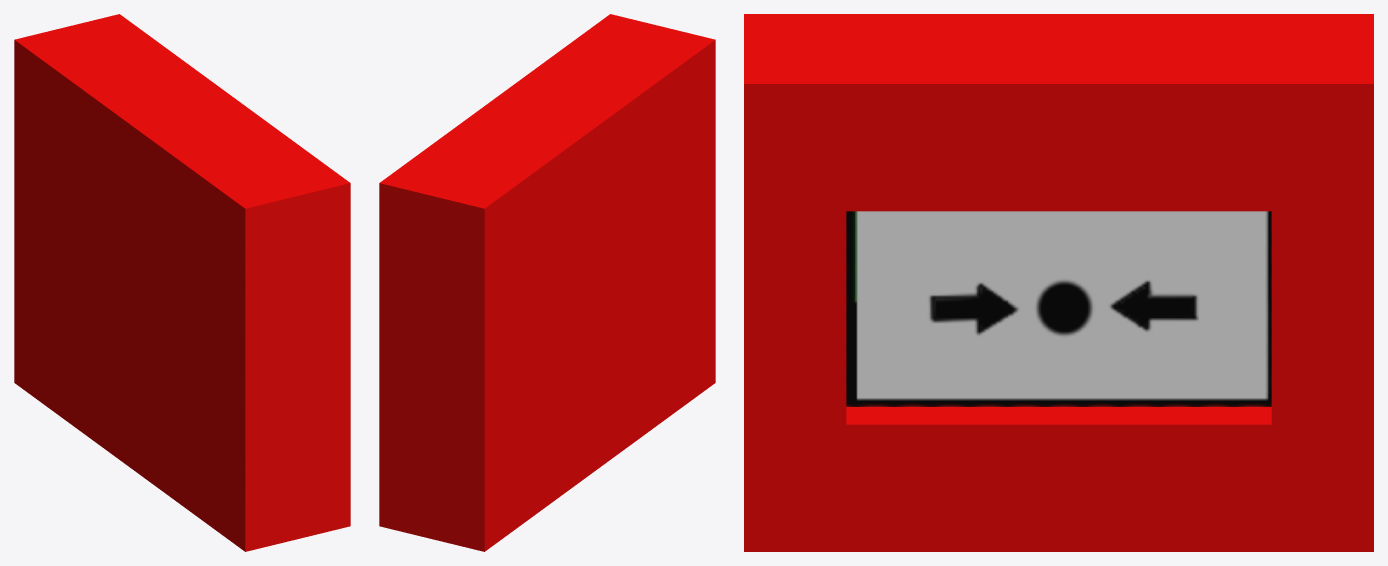
Rendered from fireAlarm.fbx.
3 views of the same model, side by side, from view 1: azimuth 30°, elevation 25°; view 2: azimuth 150°, elevation 25°; view 3: azimuth 270°, elevation 25° (orthographic). The views are drawn at different scales.
Visible parts, largest first — view 1: Cube; view 2: Cube; view 3: Cube.
Part boxes in pixels (<box>): Cube: <box>14,14,350,551</box>; Cube: <box>379,14,715,551</box>; Cube: <box>744,14,1373,551</box>.
Size of the model in its own units: 52.63 by 164 by 200.
